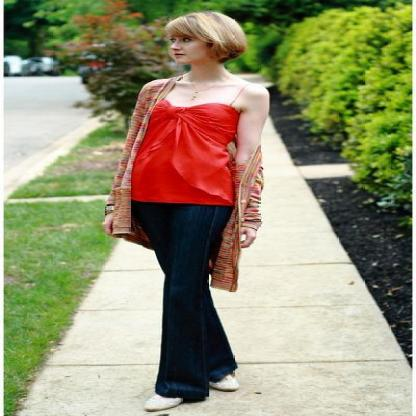jacket: (101, 78, 275, 290)
pants: (130, 200, 236, 403)
shirt: (128, 98, 248, 204)
shoe: (130, 370, 252, 416)
